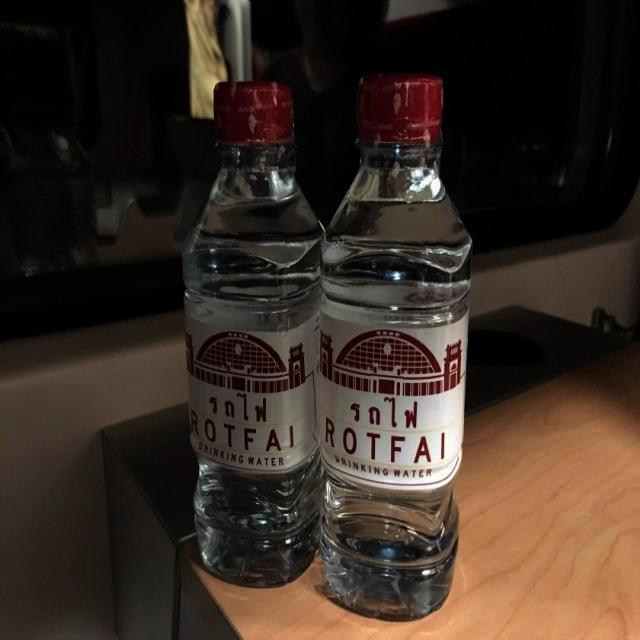bottle: (322, 71, 475, 622), (181, 83, 325, 589)
